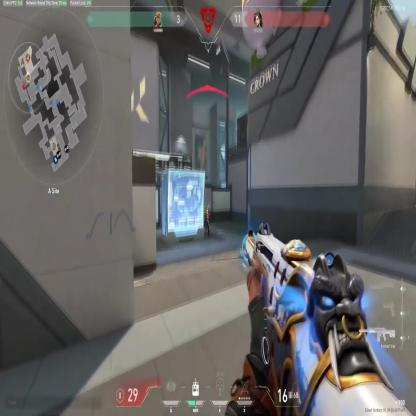enemy: (203, 204, 210, 238)
enemy_head: (206, 206, 209, 213)
